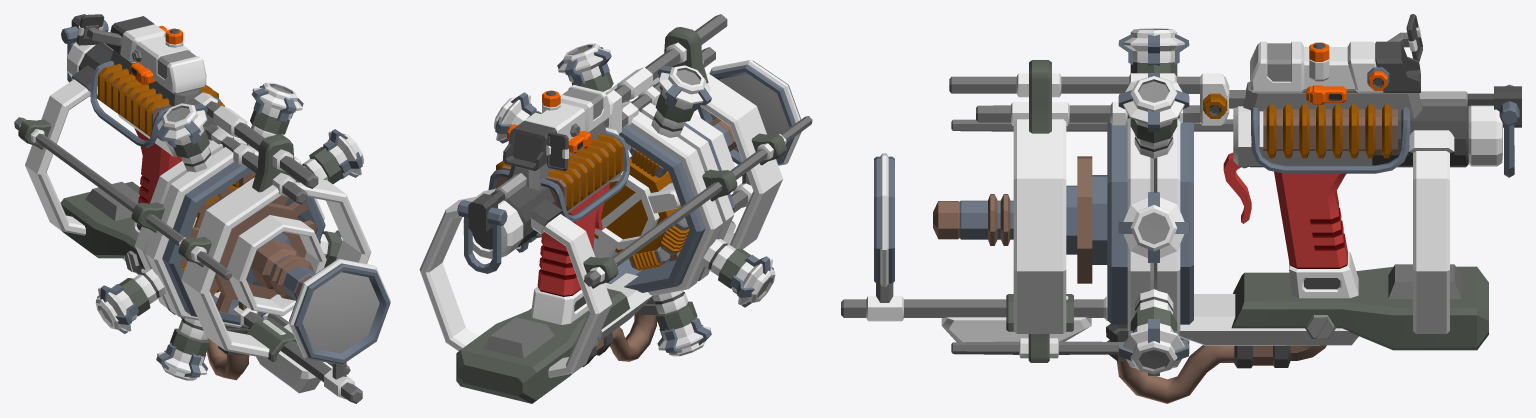
Rendered from CWC.fbx.
The picture shows the model from 3 angles, left to right: view 1: azimuth 30°, elevation 25°; view 2: azimuth 150°, elevation 25°; view 3: azimuth 270°, elevation 25°; orthographic projection. The views are drawn at different scales.
Parts seen in each view (by area): view 1: Main, lens, Battery2, Battery1, Battery6, Battery3, Battery4, Hud, Battery5; view 2: Main, Battery2, Battery1, Battery6, Battery3, lens, Battery4, Hud; view 3: Main, Battery5, Battery3, Battery4, Battery2, Hud.
Boxes of the visible parts, bbox=[...] form: Main: bbox=[14, 14, 390, 403]; lens: bbox=[302, 272, 379, 353]; Battery2: bbox=[156, 103, 213, 172]; Battery1: bbox=[95, 268, 165, 333]; Battery6: bbox=[156, 317, 209, 380]; Battery3: bbox=[247, 82, 303, 147]; Battery4: bbox=[302, 129, 363, 183]; Hud: bbox=[76, 14, 122, 46]; Battery5: bbox=[319, 230, 342, 267]; Main: bbox=[419, 14, 812, 403]; Battery2: bbox=[651, 65, 711, 137]; Battery1: bbox=[702, 239, 775, 307]; Battery6: bbox=[652, 290, 711, 356]; Battery3: bbox=[557, 43, 613, 92]; lens: bbox=[710, 74, 789, 152]; Battery4: bbox=[494, 92, 541, 143]; Hud: bbox=[546, 132, 568, 171]; Main: bbox=[841, 41, 1521, 403]; Battery5: bbox=[1118, 289, 1189, 375]; Battery3: bbox=[1118, 73, 1189, 158]; Battery4: bbox=[1118, 192, 1189, 262]; Battery2: bbox=[1118, 28, 1189, 76]; Hud: bbox=[1387, 14, 1422, 61].
Size of the model in its own units: 0.652 by 0.7176 by 1.21.
